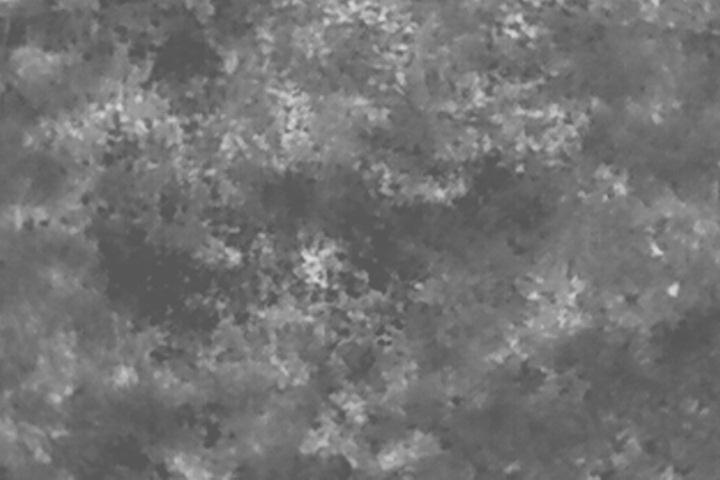landmine: (300, 252, 322, 276)
